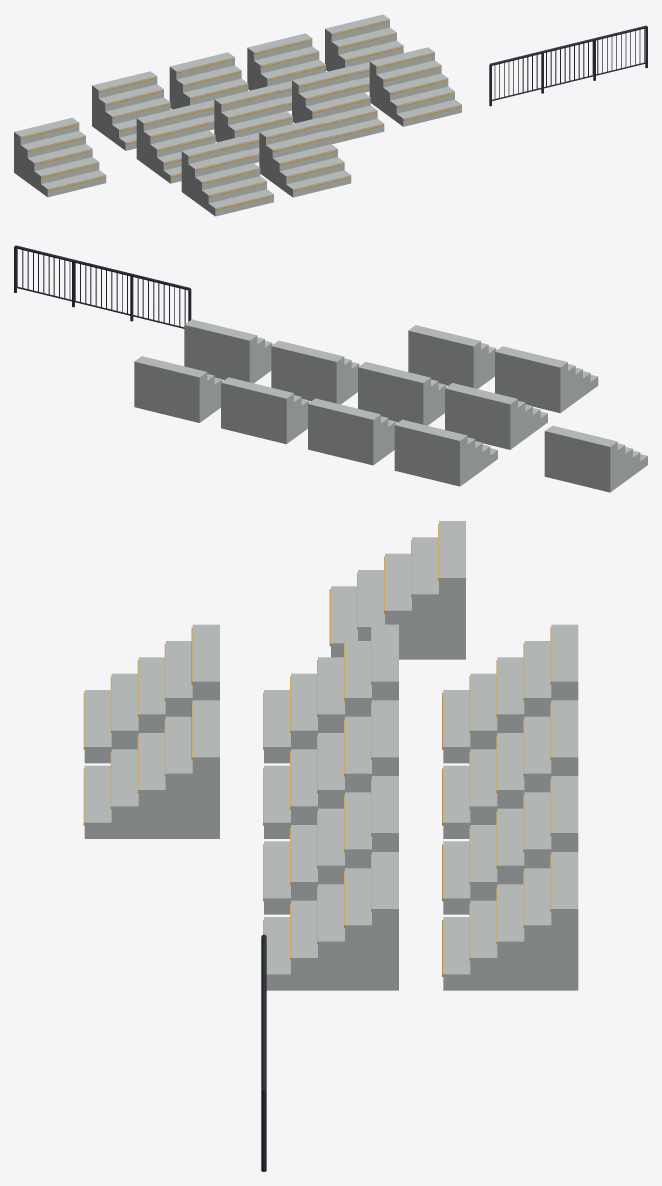
File: a-low-poly-wooden-stairs-with-10-steps-and-railings-513-stylized.glb
The picture shows the model from 3 angles, top to bottom: view 1: azimuth 30°, elevation 25°; view 2: azimuth 150°, elevation 25°; view 3: azimuth 270°, elevation 25°; orthographic projection. The views are drawn at different scales.
Visible parts, largest first — view 1: stairs_5step_2_stairs_5step_9_stairs_5step_body, stairs_5step_2_stairs_5step_8_stairs_5step_body, stairs_5step_2_stairs_5step_10_stairs_5step_body, stairs_5step_1_stairs_5step_body, stairs_5step_2_stairs_5step_7_stairs_5step_body, stairs_5step_2_stairs_5step_5_stairs_5step_body, stairs_5step_2_stairs_5step_1_stairs_5step_body, stairs_5step_2_stairs_5step_2_stairs_5step_body, stairs_5step_2_stairs_5step_6_stairs_5step_body, stairs_5step_2_stairs_5step_3_stairs_5step_body, stairs_5step_2_stairs_5step_4_stairs_5step_body, railing_3_railing; view 2: stairs_5step_1_stairs_5step_body, stairs_5step_2_stairs_5step_1_stairs_5step_body, stairs_5step_2_stairs_5step_9_stairs_5step_body, stairs_5step_2_stairs_5step_5_stairs_5step_body, stairs_5step_2_stairs_5step_4_stairs_5step_body, stairs_5step_2_stairs_5step_3_stairs_5step_body, stairs_5step_2_stairs_5step_2_stairs_5step_body, stairs_5step_2_stairs_5step_8_stairs_5step_body, stairs_5step_2_stairs_5step_7_stairs_5step_body, stairs_5step_2_stairs_5step_6_stairs_5step_body, stairs_5step_2_stairs_5step_10_stairs_5step_body, railing_3_railing; view 3: stairs_5step_2_stairs_5step_4_stairs_5step_body, stairs_5step_2_stairs_5step_10_stairs_5step_body, stairs_5step_2_stairs_5step_8_stairs_5step_body, stairs_5step_1_stairs_5step_body, stairs_5step_2_stairs_5step_9_stairs_5step_body, stairs_5step_2_stairs_5step_3_stairs_5step_body, stairs_5step_2_stairs_5step_1_stairs_5step_body, stairs_5step_2_stairs_5step_2_stairs_5step_body, stairs_5step_2_stairs_5step_5_stairs_5step_body, stairs_5step_2_stairs_5step_7_stairs_5step_body, stairs_5step_2_stairs_5step_6_stairs_5step_body, railing_3_railing.
Part boxes in pixels (box(x1,y1,x2,y2)): stairs_5step_2_stairs_5step_9_stairs_5step_body: box(181, 137, 273, 216); stairs_5step_2_stairs_5step_8_stairs_5step_body: box(369, 47, 461, 126); stairs_5step_2_stairs_5step_10_stairs_5step_body: box(259, 118, 351, 197); stairs_5step_1_stairs_5step_body: box(14, 117, 106, 197); stairs_5step_2_stairs_5step_7_stairs_5step_body: box(292, 66, 384, 144); stairs_5step_2_stairs_5step_5_stairs_5step_body: box(136, 104, 215, 183); stairs_5step_2_stairs_5step_1_stairs_5step_body: box(92, 71, 170, 150); stairs_5step_2_stairs_5step_2_stairs_5step_body: box(169, 52, 248, 130); stairs_5step_2_stairs_5step_6_stairs_5step_body: box(214, 85, 292, 163); stairs_5step_2_stairs_5step_3_stairs_5step_body: box(247, 33, 325, 111); stairs_5step_2_stairs_5step_4_stairs_5step_body: box(325, 14, 403, 92); railing_3_railing: box(489, 25, 647, 106); stairs_5step_1_stairs_5step_body: box(544, 425, 647, 492); stairs_5step_2_stairs_5step_1_stairs_5step_body: box(394, 419, 497, 486); stairs_5step_2_stairs_5step_9_stairs_5step_body: box(495, 346, 598, 413); stairs_5step_2_stairs_5step_5_stairs_5step_body: box(445, 383, 547, 449); stairs_5step_2_stairs_5step_4_stairs_5step_body: box(134, 356, 222, 422); stairs_5step_2_stairs_5step_3_stairs_5step_body: box(221, 377, 309, 444); stairs_5step_2_stairs_5step_2_stairs_5step_body: box(308, 398, 396, 465); stairs_5step_2_stairs_5step_8_stairs_5step_body: box(184, 319, 272, 383); stairs_5step_2_stairs_5step_7_stairs_5step_body: box(271, 340, 359, 404); stairs_5step_2_stairs_5step_6_stairs_5step_body: box(358, 361, 446, 425); stairs_5step_2_stairs_5step_10_stairs_5step_body: box(408, 325, 496, 388); railing_3_railing: box(14, 245, 191, 328); stairs_5step_2_stairs_5step_4_stairs_5step_body: box(443, 852, 578, 990); stairs_5step_2_stairs_5step_10_stairs_5step_body: box(84, 700, 219, 838); stairs_5step_2_stairs_5step_8_stairs_5step_body: box(264, 852, 398, 990); stairs_5step_1_stairs_5step_body: box(331, 521, 465, 659); stairs_5step_2_stairs_5step_9_stairs_5step_body: box(84, 624, 219, 763); stairs_5step_2_stairs_5step_3_stairs_5step_body: box(443, 776, 578, 914); stairs_5step_2_stairs_5step_1_stairs_5step_body: box(443, 624, 578, 763); stairs_5step_2_stairs_5step_2_stairs_5step_body: box(443, 700, 578, 838); stairs_5step_2_stairs_5step_5_stairs_5step_body: box(264, 624, 398, 763); stairs_5step_2_stairs_5step_7_stairs_5step_body: box(264, 776, 398, 914); stairs_5step_2_stairs_5step_6_stairs_5step_body: box(264, 700, 398, 838); railing_3_railing: box(261, 934, 266, 1171).
Bounding box in the file's own units: 14.96 × 1.03 × 5.5.
5 materials, 1 textured.
